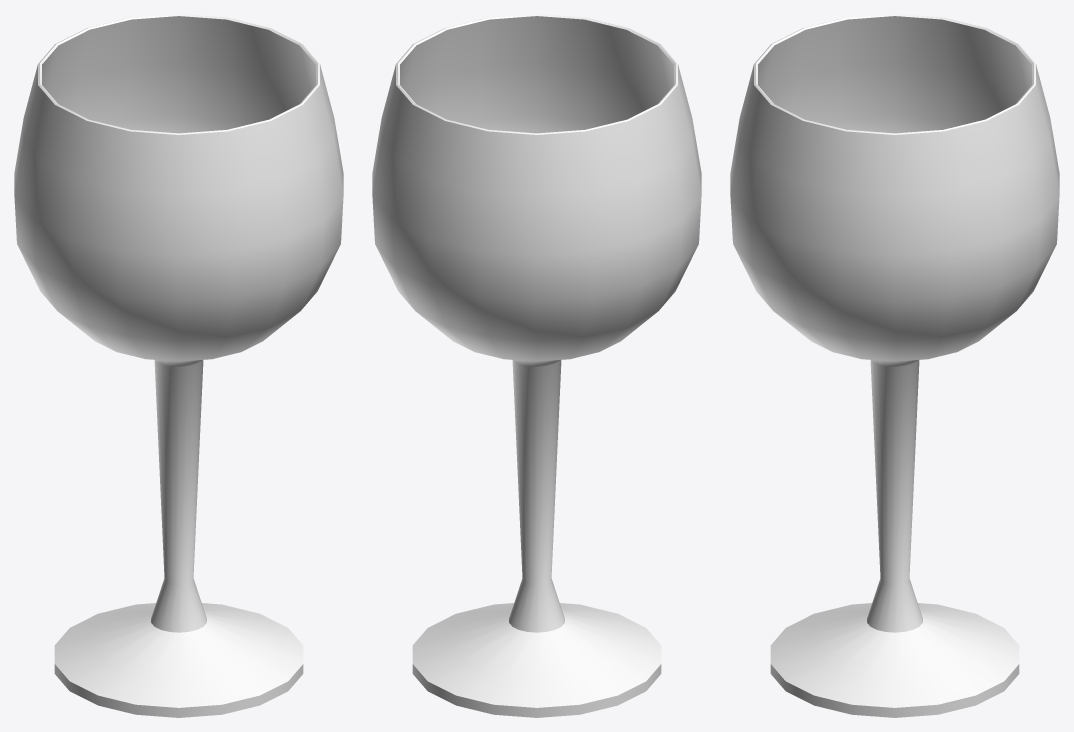
File: Glasses01_2.FBX
3 views of the same model, side by side, from view 1: azimuth 30°, elevation 25°; view 2: azimuth 150°, elevation 25°; view 3: azimuth 270°, elevation 25° (orthographic).
Visible parts, largest first — view 1: Glasses01_2; view 2: Glasses01_2; view 3: Glasses01_2.
Part boxes in pixels (x1,y1,x2,y2): Glasses01_2: (14,14,343,717); Glasses01_2: (372,14,701,717); Glasses01_2: (730,14,1059,717).
Bounding box in the file's own units: 12.28 × 23.96 × 12.09.
